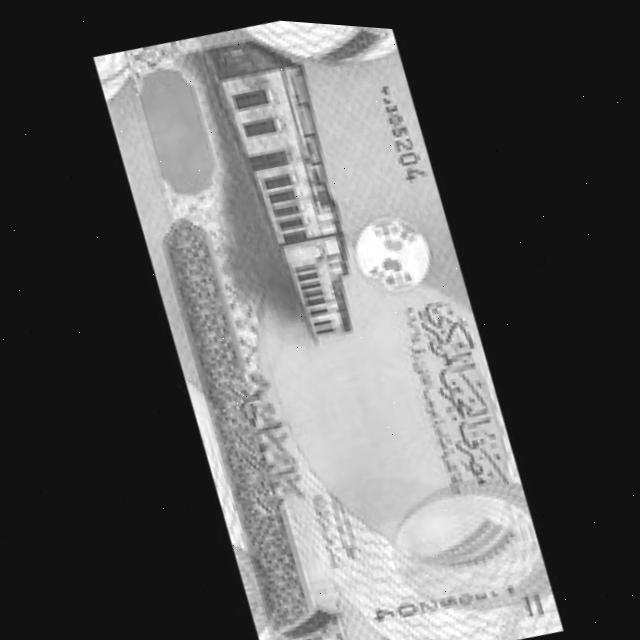banknote: (91, 5, 564, 640)
